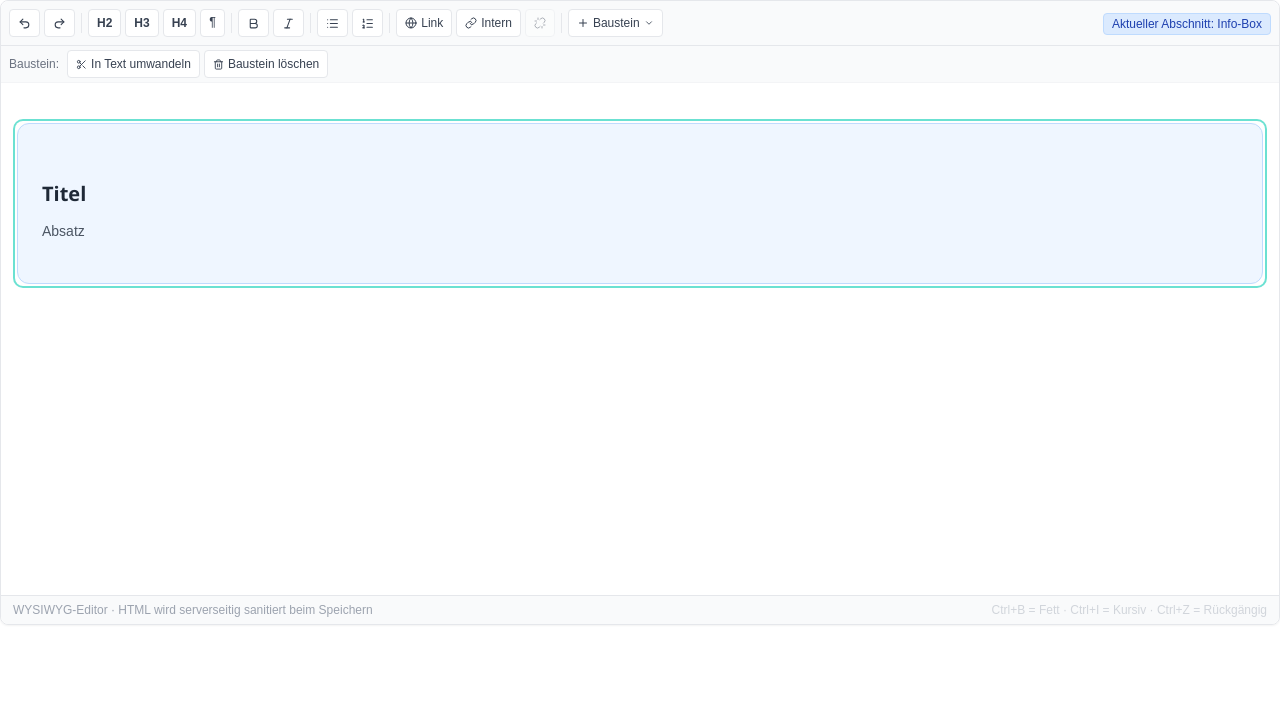
1/2/20 – Tabellen-Aktionsleiste ist korrekt verdrahtet › unwrap einer Info-Box erhält den Inhalt und meldet genau eine Änderung
The width and height of the screenshot is (1280, 720).
Press the mouse on the button with test id "btn-unwrap" at (133, 64), box [67,50,200,78]
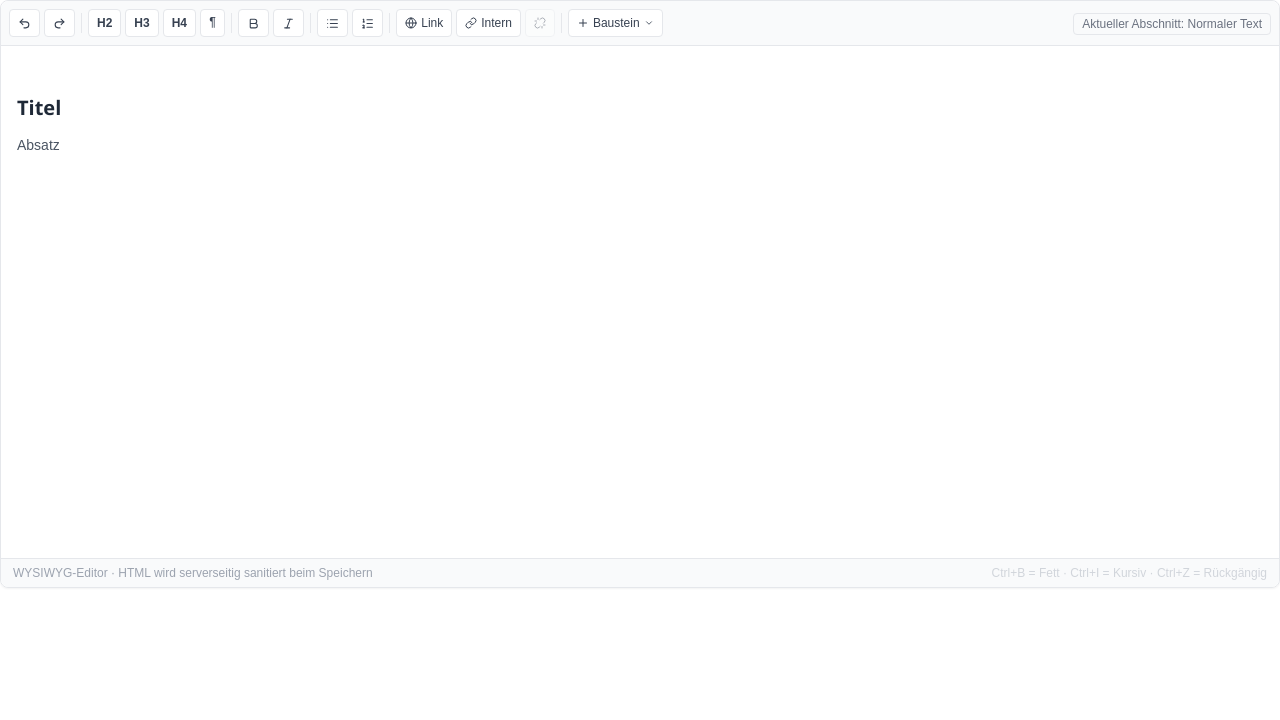
Check: the heading "Titel" is shown, box [17,94,61,121]
Check: the text box with class "info-box" is gone
